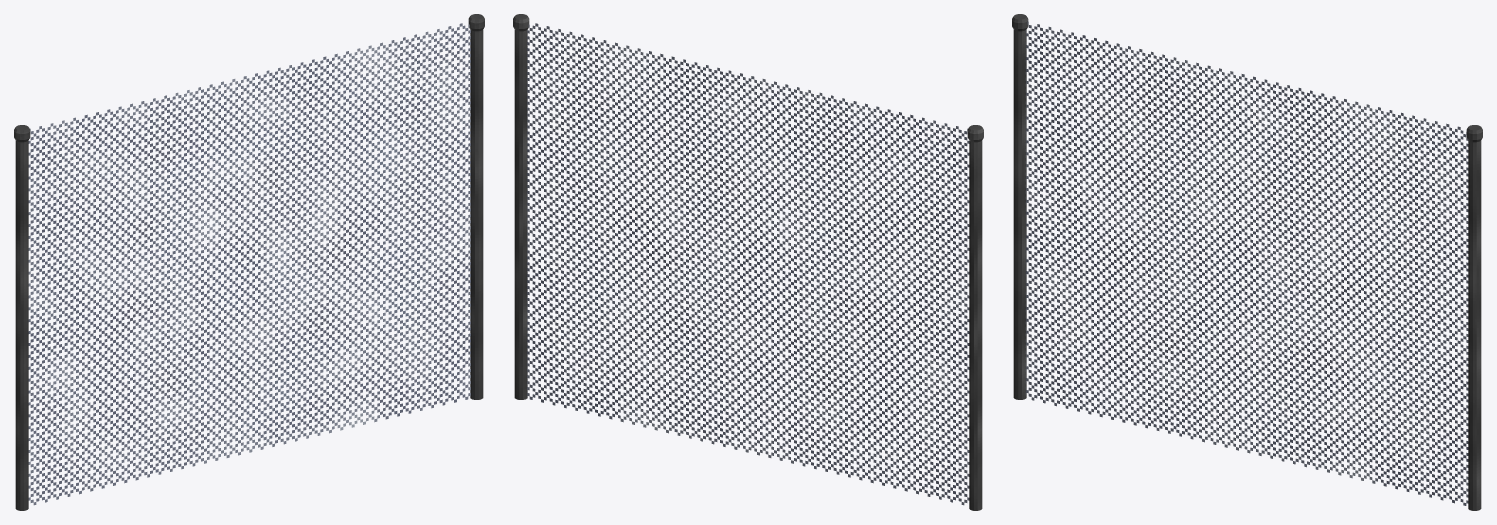
File: fence - merged.gltf
3 views of the same model, side by side, from view 1: azimuth 30°, elevation 25°; view 2: azimuth 150°, elevation 25°; view 3: azimuth 330°, elevation 25° (orthographic).
Parts seen in each view (by area): view 1: fence; view 2: fence; view 3: fence.
Boxes of the visible parts, x1,y1,x2,y2 form: fence: [14, 14, 484, 510]; fence: [513, 14, 983, 510]; fence: [1012, 14, 1482, 510].
Size of the model in its own units: 5.16 by 4 by 0.1563.
2 materials, 2 textured.
